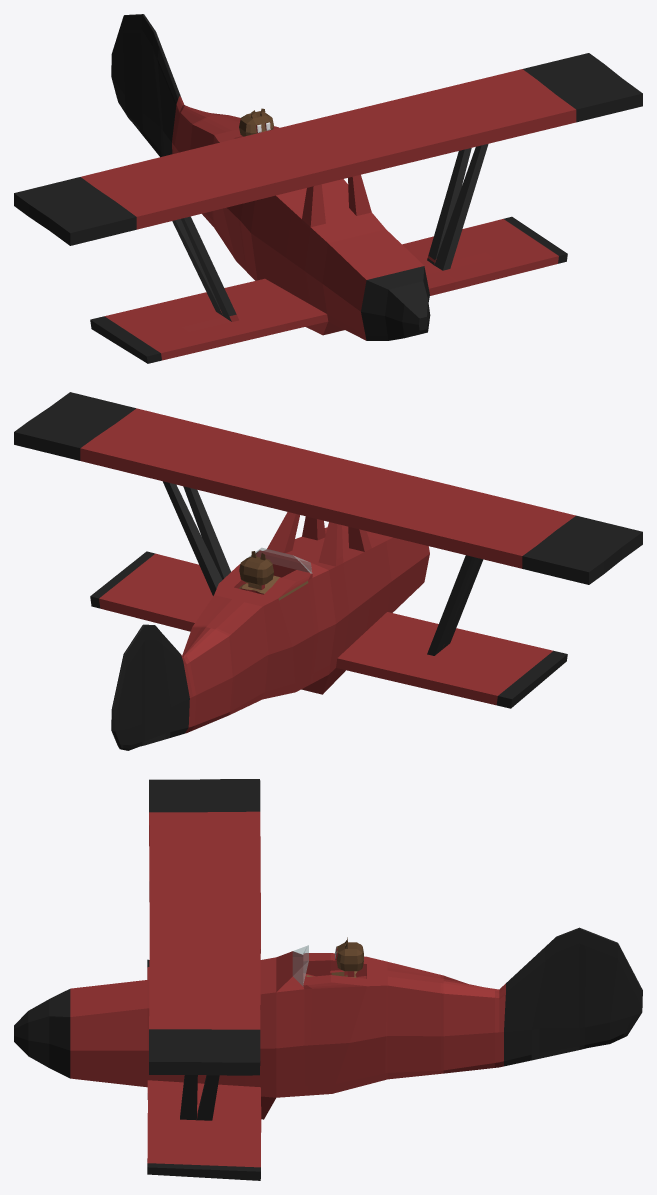
The model's file is Nave.fbx.
The picture shows the model from 3 angles, top to bottom: view 1: azimuth 30°, elevation 25°; view 2: azimuth 150°, elevation 25°; view 3: azimuth 270°, elevation 25°; orthographic projection.
Parts seen in each view (by area): view 1: Nave:Mesh; view 2: Nave:Mesh; view 3: Nave:Mesh.
Part boxes in pixels (x1,y1,x2,y2): Nave:Mesh: (14,14,642,363); Nave:Mesh: (14,392,642,750); Nave:Mesh: (14,779,642,1180).
Bounding box in the file's own units: 5.71 × 1.76 × 5.35.
